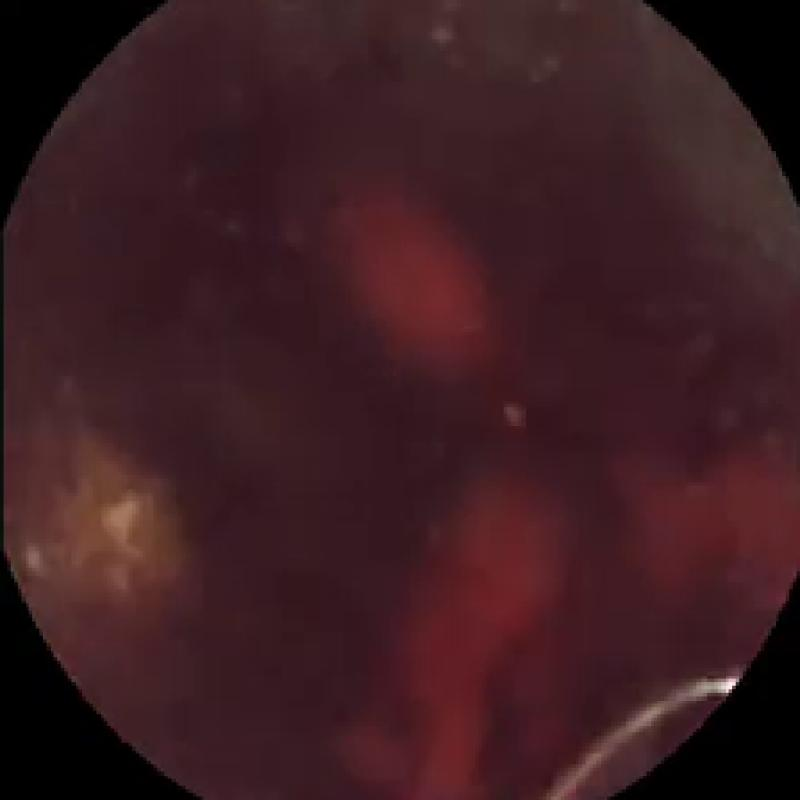bleeding: (346, 460, 585, 800), (607, 446, 800, 614), (357, 189, 500, 379)
